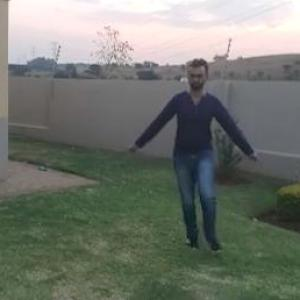land: (135, 57, 267, 264)
